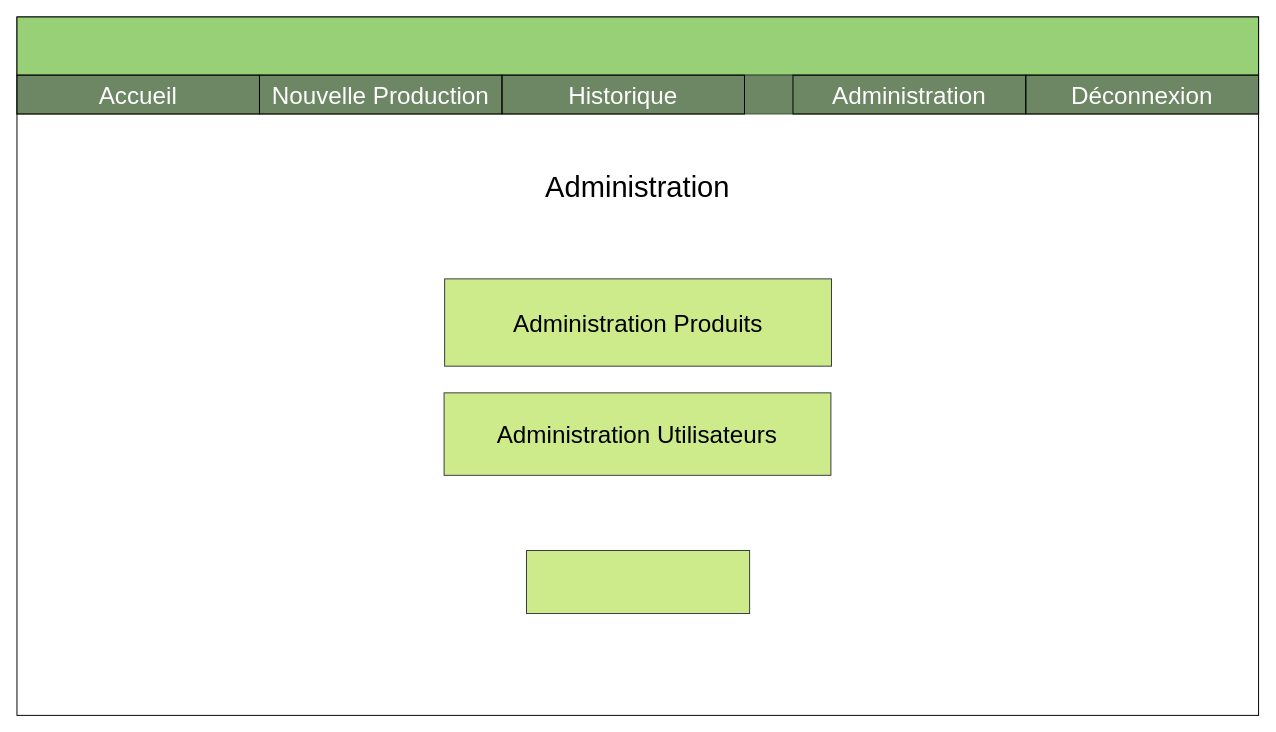
The diagram is 1276 pixels wide and 732 high, and some of its shapes have lost their labels. Each missing label, with the centre of its shape:
"Gestion de production" goes at point (637, 45).
"Retour" goes at point (638, 582).
